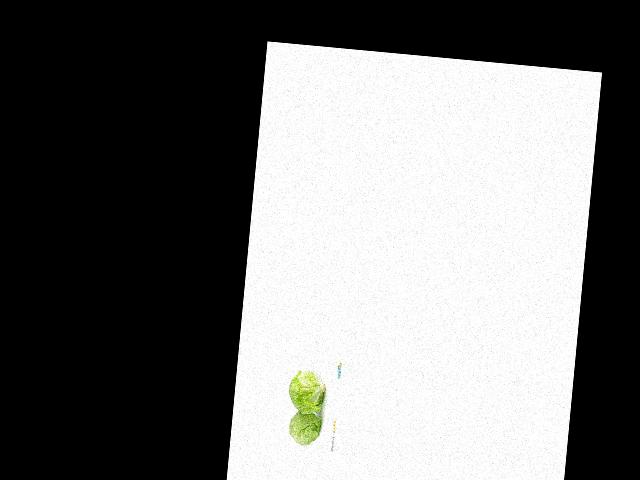lettuce: (287, 400, 330, 448)
